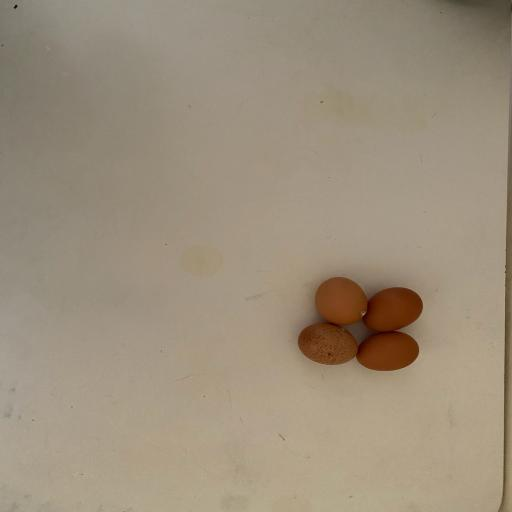egg: (289, 265, 393, 337), (278, 311, 370, 386), (342, 277, 456, 335), (337, 326, 430, 384)
